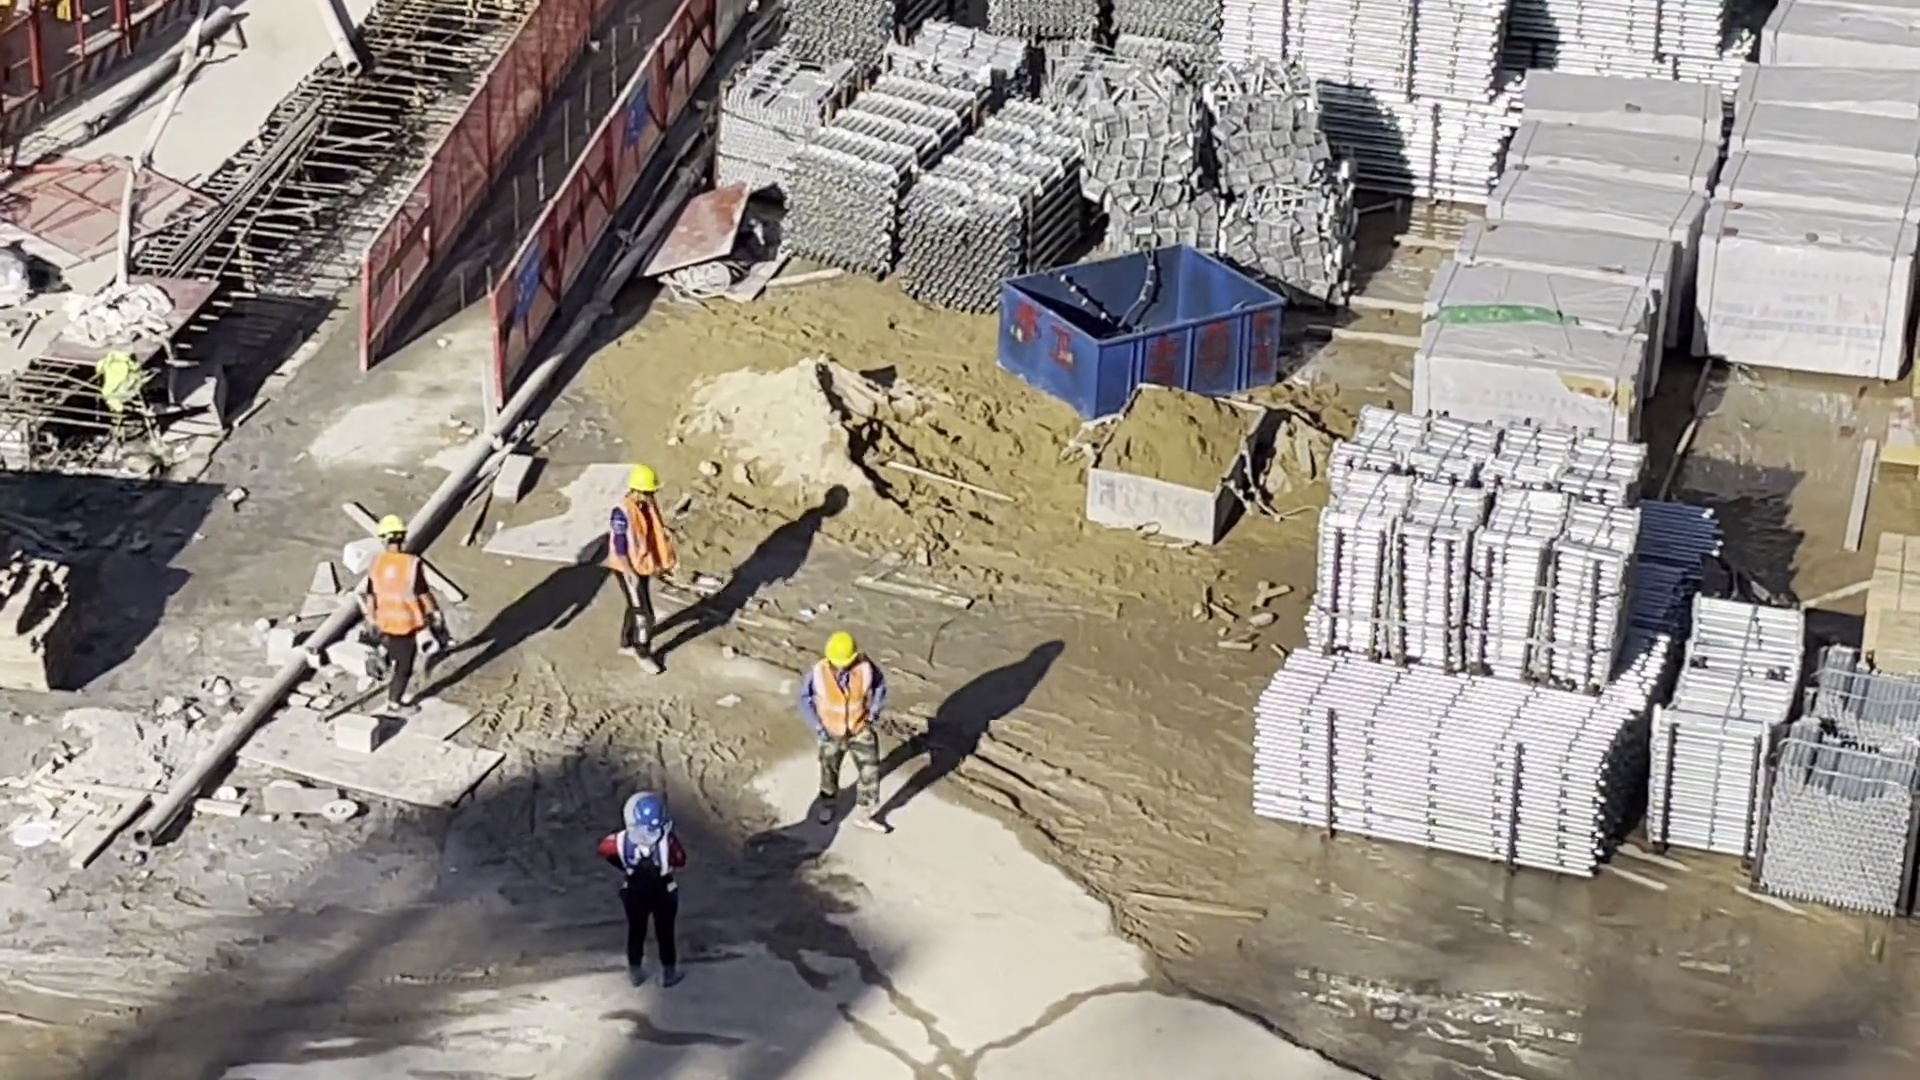board: (1869, 538, 1920, 653)
fence: (366, 4, 731, 366)
helmet: (824, 632, 857, 668), (636, 800, 667, 831), (629, 467, 659, 494), (376, 516, 407, 540)
hopper: (998, 243, 1281, 422), (1090, 379, 1265, 541)
person: (597, 793, 688, 989), (802, 633, 894, 826), (617, 465, 669, 668), (366, 519, 417, 710)
scaffold: (1311, 403, 1631, 683), (1259, 650, 1635, 872), (793, 81, 1105, 310), (1230, 1, 1501, 203), (1761, 651, 1920, 921), (1651, 596, 1804, 851), (991, 1, 1229, 81), (1517, 1, 1743, 77), (779, 1, 970, 54)
slogan: (515, 245, 540, 316), (623, 81, 646, 147)
vest: (816, 658, 873, 741), (615, 497, 666, 581), (374, 557, 420, 635), (617, 835, 674, 888)
